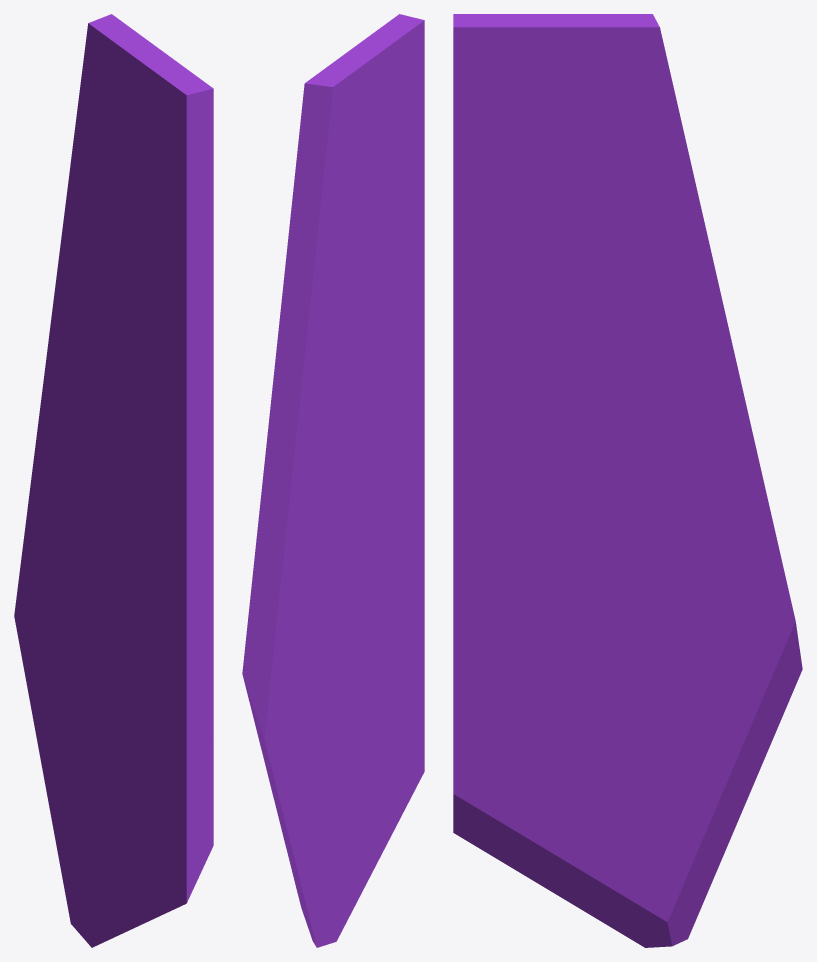
File: Glass_84_5_11_chunks.fbx
The picture shows the model from 3 angles, left to right: view 1: azimuth 30°, elevation 25°; view 2: azimuth 150°, elevation 25°; view 3: azimuth 270°, elevation 25°; orthographic projection. The views are drawn at different scales.
Visible parts, largest first — view 1: Glass_84_5_11_2, Glass_84_5_11_3, Glass_84_5_11_4, Glass_84_5_11_0, Glass_84_5_11_5, Glass_84_5_11_6, Glass_84_5_11_1; view 2: Glass_84_5_11_3, Glass_84_5_11_2, Glass_84_5_11_0, Glass_84_5_11_4, Glass_84_5_11_5, Glass_84_5_11_6; view 3: Glass_84_5_11_3, Glass_84_5_11_1, Glass_84_5_11_0, Glass_84_5_11_4, Glass_84_5_11_5, Glass_84_5_11_2.
Boxes of the visible parts, bbox=[...] form: Glass_84_5_11_2: bbox=[44, 564, 213, 947]; Glass_84_5_11_3: bbox=[64, 14, 213, 399]; Glass_84_5_11_4: bbox=[91, 382, 213, 632]; Glass_84_5_11_0: bbox=[14, 359, 103, 776]; Glass_84_5_11_5: bbox=[46, 218, 100, 516]; Glass_84_5_11_6: bbox=[97, 317, 135, 488]; Glass_84_5_11_1: bbox=[206, 626, 213, 804]; Glass_84_5_11_3: bbox=[284, 14, 424, 356]; Glass_84_5_11_2: bbox=[283, 515, 424, 947]; Glass_84_5_11_0: bbox=[242, 445, 347, 848]; Glass_84_5_11_4: bbox=[335, 303, 424, 567]; Glass_84_5_11_5: bbox=[266, 281, 344, 542]; Glass_84_5_11_6: bbox=[341, 344, 377, 507]; Glass_84_5_11_3: bbox=[453, 14, 705, 356]; Glass_84_5_11_1: bbox=[453, 560, 725, 925]; Glass_84_5_11_0: bbox=[624, 391, 802, 811]; Glass_84_5_11_4: bbox=[453, 333, 642, 571]; Glass_84_5_11_5: bbox=[572, 226, 742, 533]; Glass_84_5_11_2: bbox=[453, 760, 741, 947].
Bounding box in the file's own units: 27.2 × 884 × 300.
